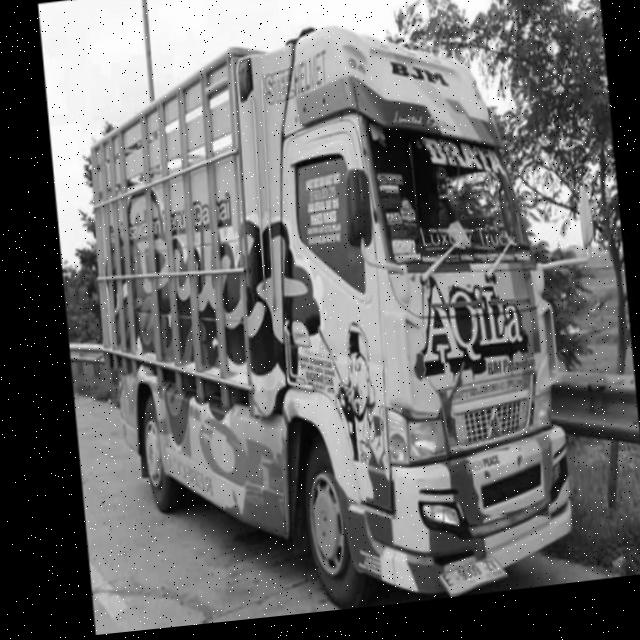truck: (203, 3, 620, 625)
